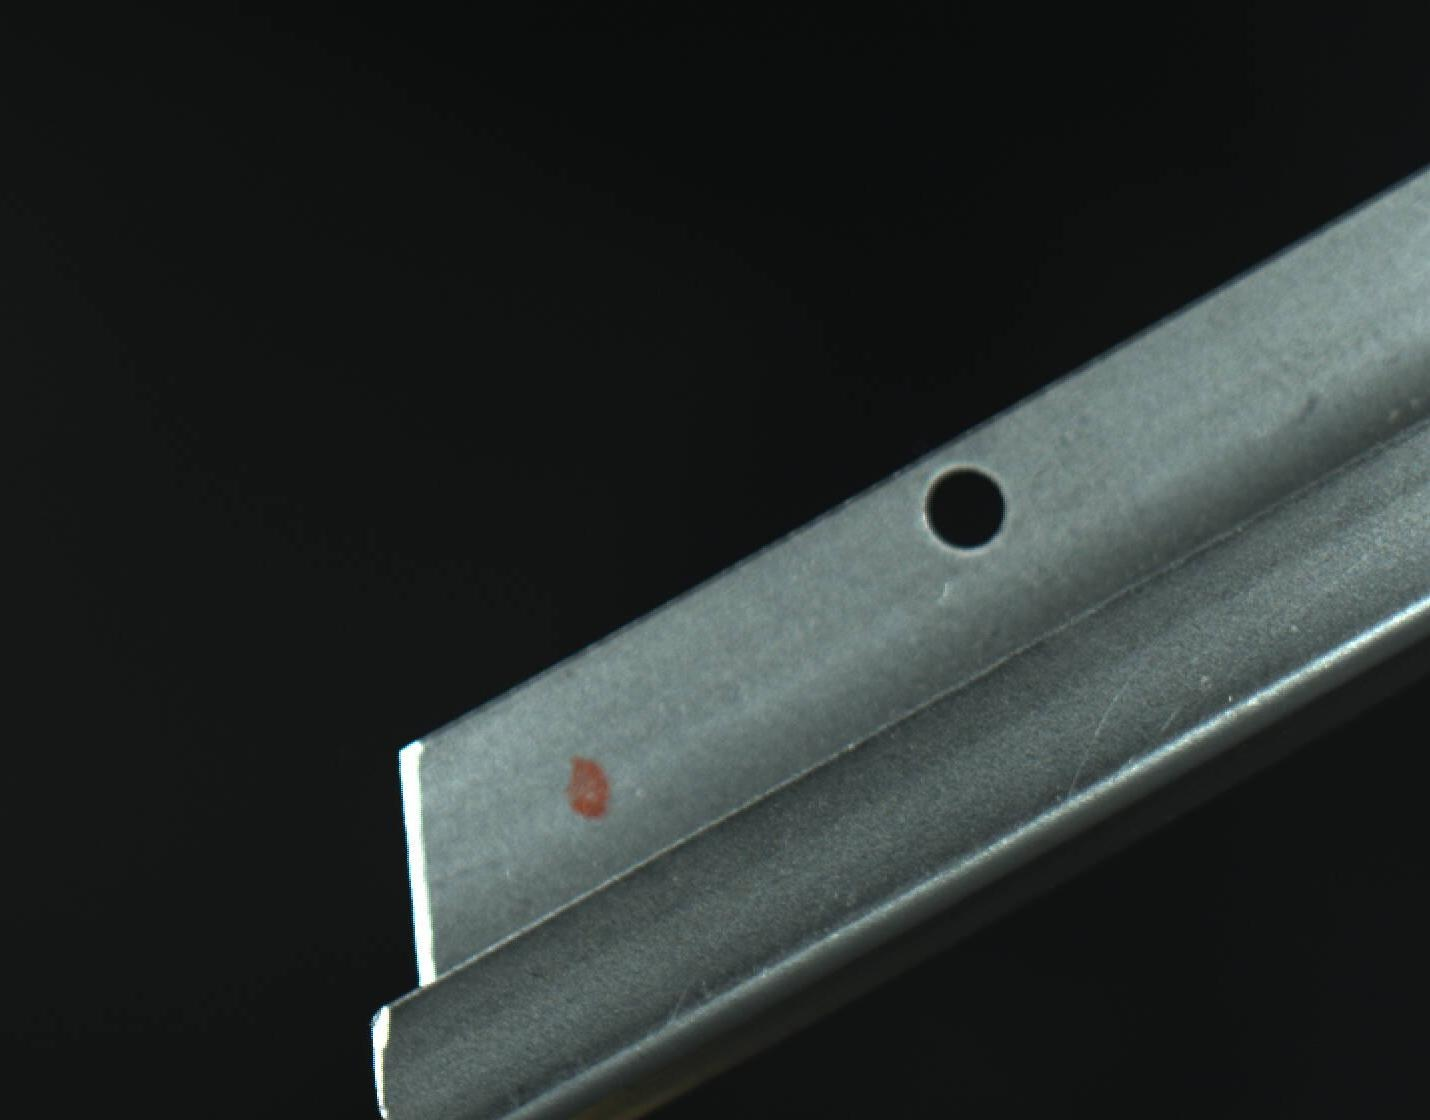cut: (280, 579, 878, 1113)
holes: (917, 463, 1013, 556)
